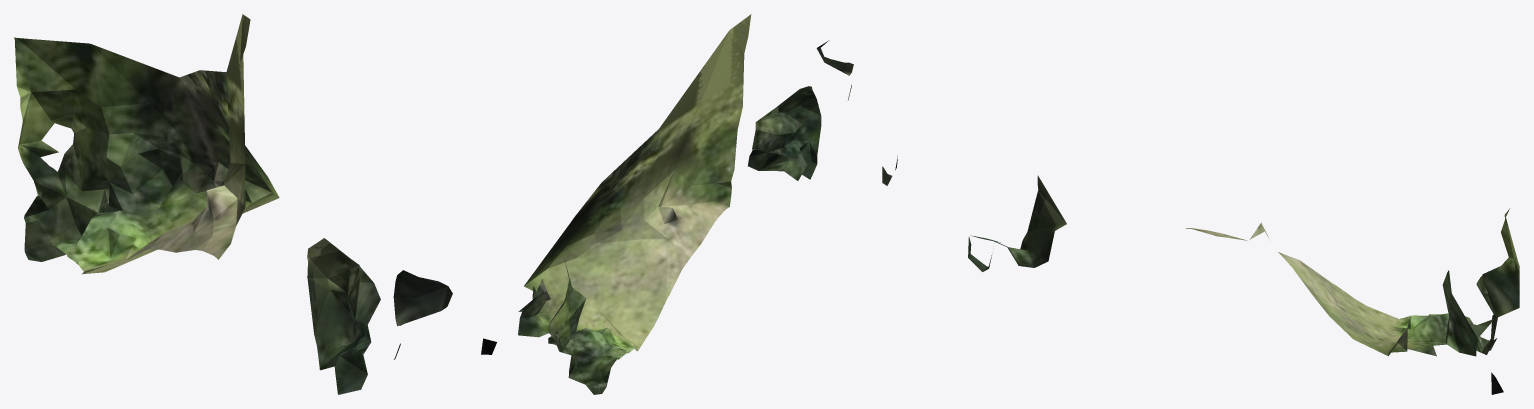
The picture shows the model from 3 angles, left to right: view 1: azimuth 30°, elevation 25°; view 2: azimuth 150°, elevation 25°; view 3: azimuth 270°, elevation 25°; orthographic projection. The views are drawn at different scales.
Size of the model in its own units: 13.86 by 29.97 by 52.22.
Materials: 1 (1 with a texture image).
